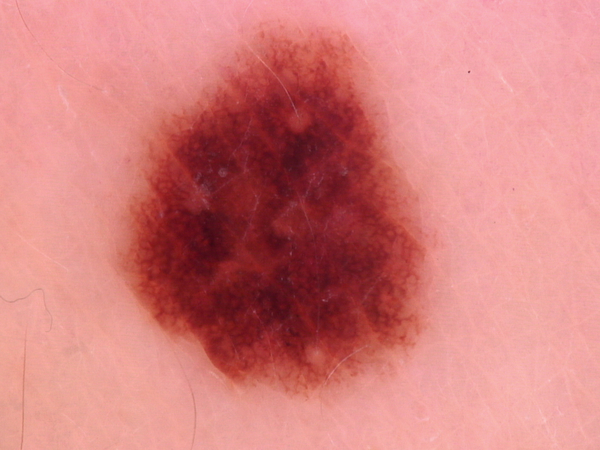Detected Lesion: (114, 20, 435, 406)
